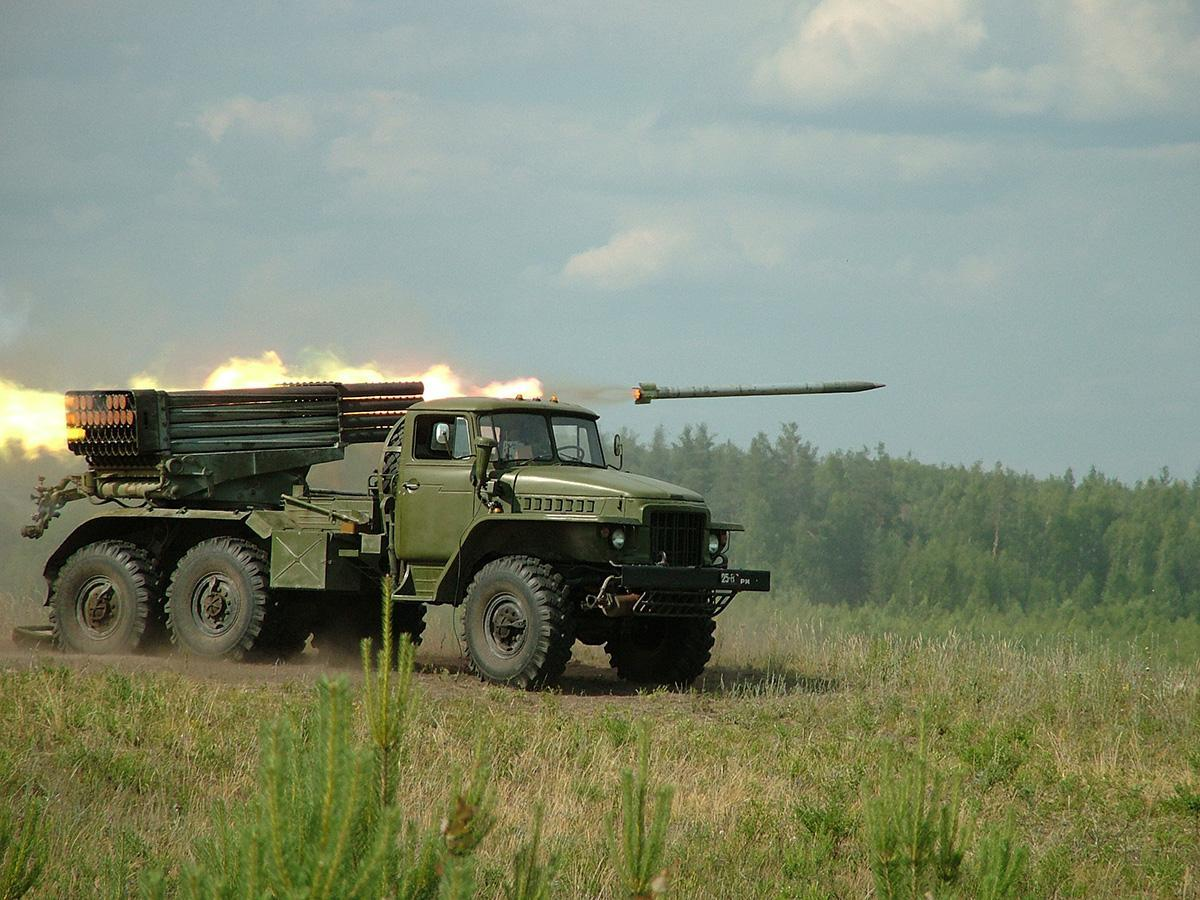rszo: (38, 355, 774, 718)
